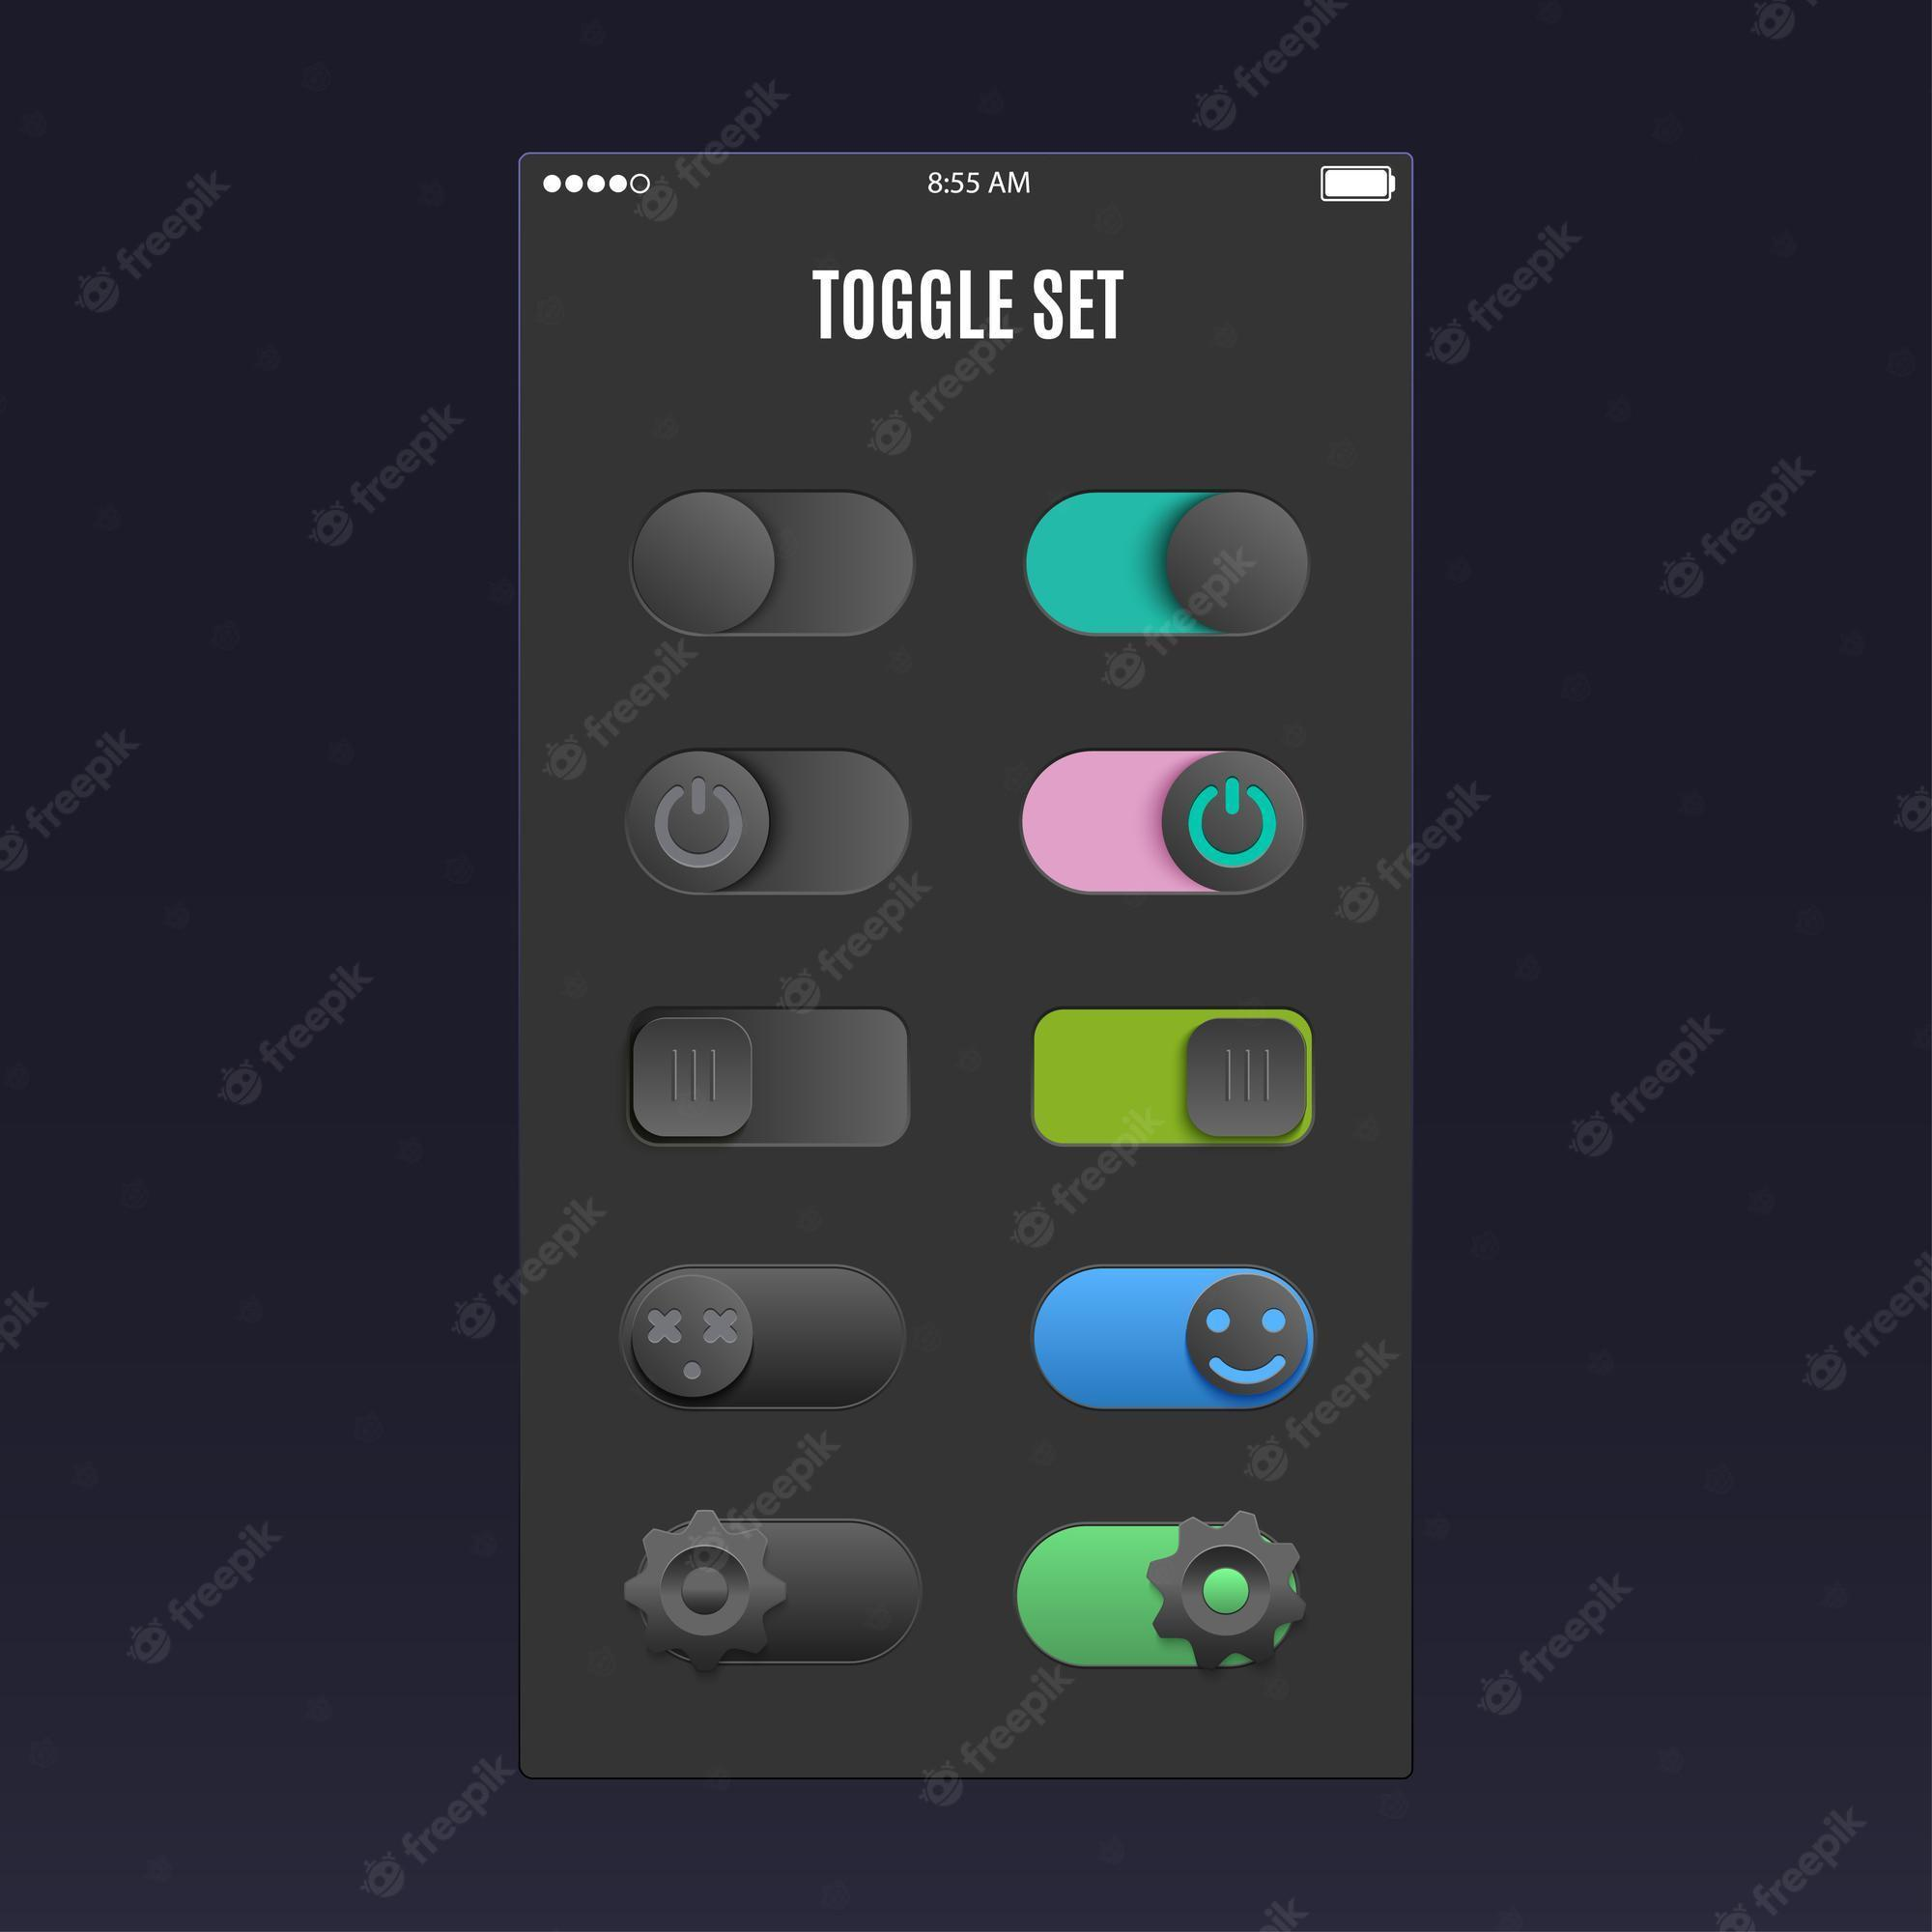switch: (623, 1507, 925, 1672), (1016, 1514, 1315, 1675), (617, 1260, 915, 1415), (619, 741, 915, 897), (623, 1000, 915, 1157), (628, 487, 918, 644), (1033, 1005, 1315, 1157), (1031, 1263, 1318, 1412), (1023, 490, 1309, 639), (1024, 750, 1304, 895)
